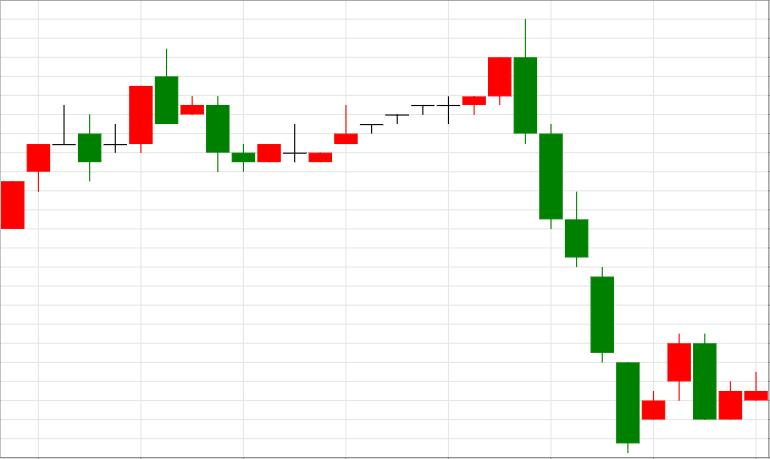morning_star_rise: (308, 19, 588, 267), (310, 18, 537, 162)
